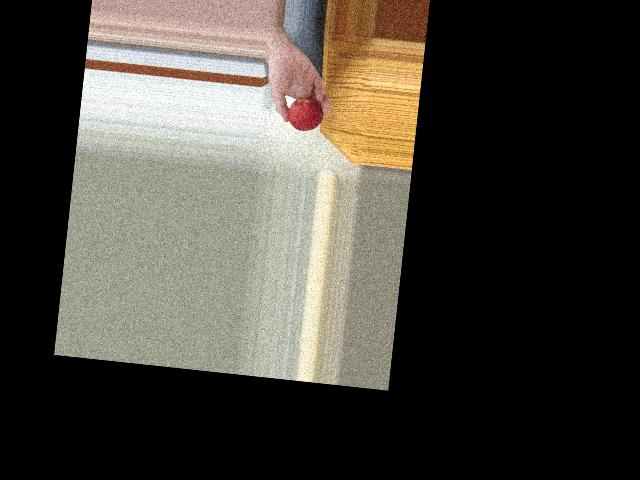apple: (285, 93, 325, 132)
